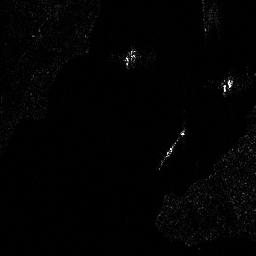ship: (161, 128, 186, 162)
